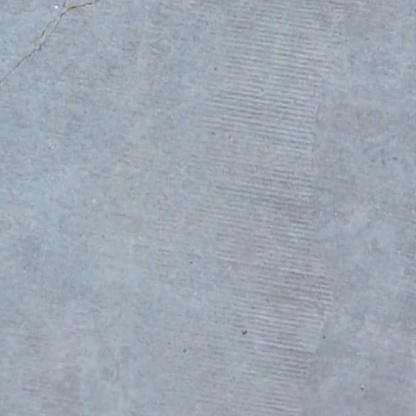Cracks: (0, 0, 133, 109)
